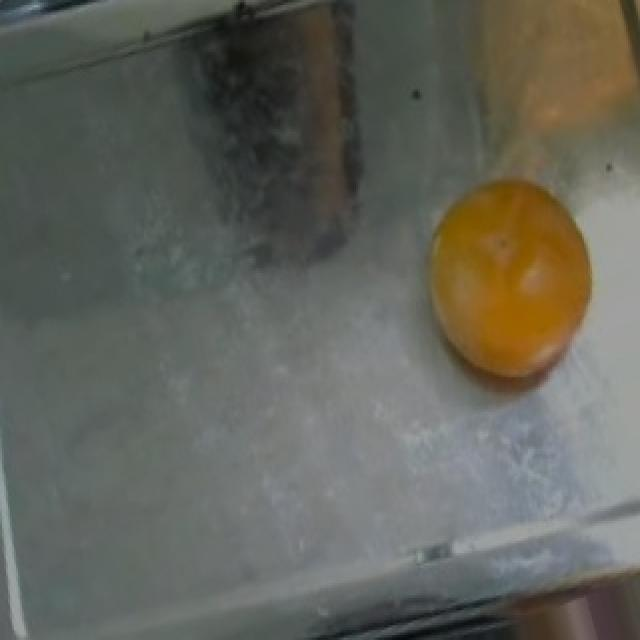Fruit: (404, 156, 620, 414), (446, 0, 640, 243), (432, 578, 630, 640)
